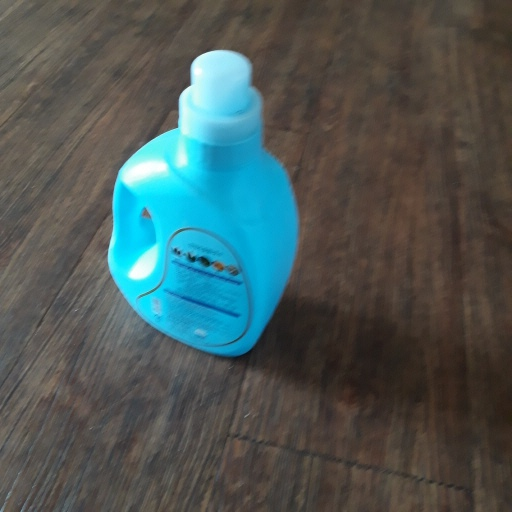Plastic_1: (110, 47, 299, 356)
